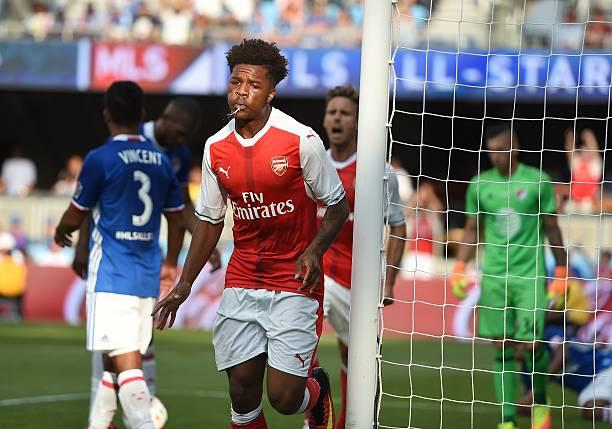Spitting: (196, 23, 327, 159)
